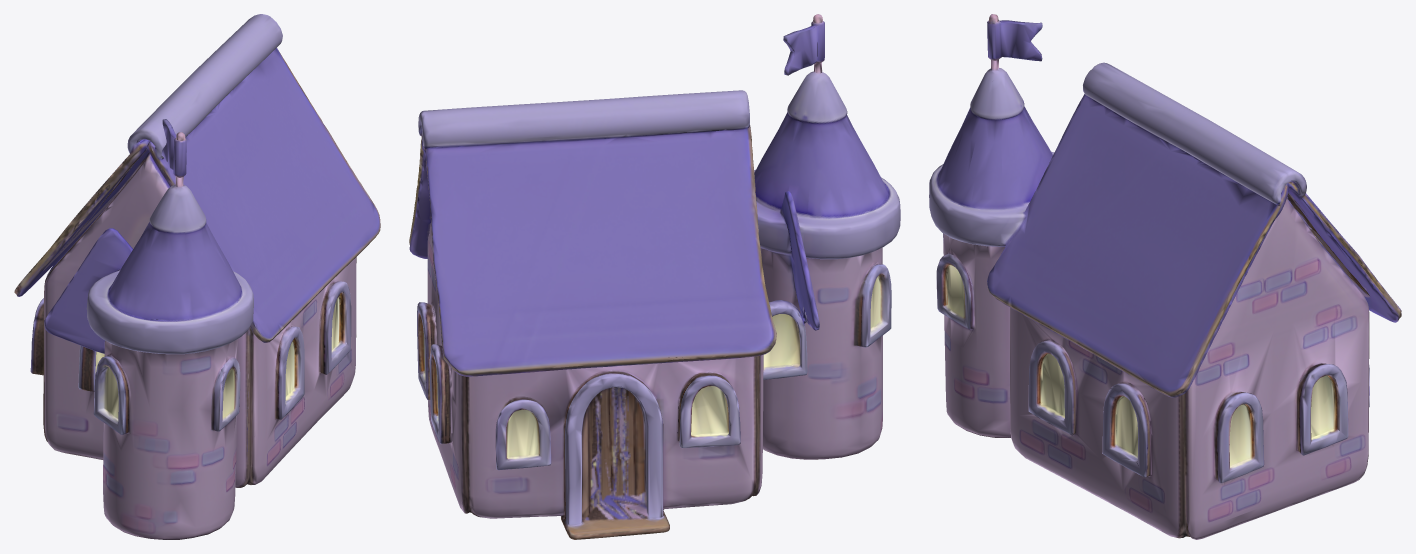
3 renders of one model, left to right at view 1: azimuth 30°, elevation 25°; view 2: azimuth 150°, elevation 25°; view 3: azimuth 270°, elevation 25°, orthographic. The views are drawn at different scales.
Parts seen in each view (by area): view 1: repaired; view 2: repaired; view 3: repaired.
Boxes of the visible parts, box(x1,y1,x2,y2) form: repaired: box(14, 14, 380, 539); repaired: box(409, 14, 900, 539); repaired: box(929, 14, 1401, 539).
Size of the model in its own units: 0.9208 by 0.9375 by 0.9994.
Materials: 1 (1 with a texture image).
